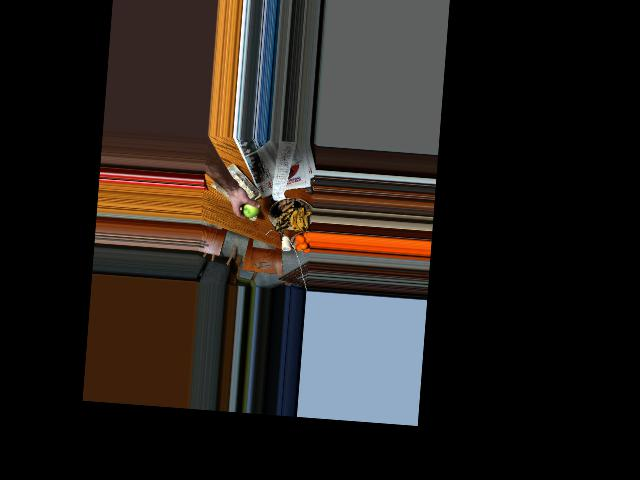apple: (240, 198, 260, 218)
